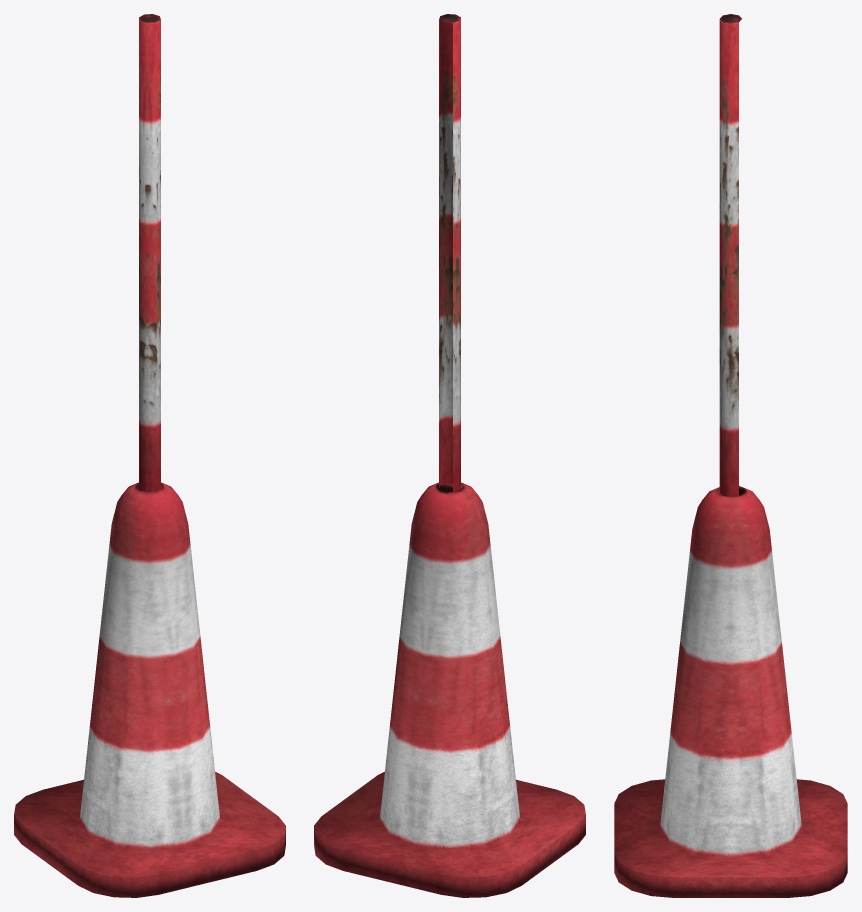
Rendered from traffic_cone_pole.glb.
The picture shows the model from 3 angles, left to right: view 1: azimuth 30°, elevation 25°; view 2: azimuth 150°, elevation 25°; view 3: azimuth 270°, elevation 25°; orthographic projection.
Parts seen in each view (by area): view 1: Pacholek_Drogowy_PRL_Tyczka_0, Pacholek_Drogowy_PRL_Tyczka_1; view 2: Pacholek_Drogowy_PRL_Tyczka_0, Pacholek_Drogowy_PRL_Tyczka_1; view 3: Pacholek_Drogowy_PRL_Tyczka_0, Pacholek_Drogowy_PRL_Tyczka_1.
Boxes of the visible parts, x1,y1,x2,y2 form: Pacholek_Drogowy_PRL_Tyczka_0: (14, 482, 285, 897); Pacholek_Drogowy_PRL_Tyczka_1: (139, 14, 160, 491); Pacholek_Drogowy_PRL_Tyczka_0: (314, 482, 585, 897); Pacholek_Drogowy_PRL_Tyczka_1: (439, 14, 460, 491); Pacholek_Drogowy_PRL_Tyczka_0: (614, 486, 847, 897); Pacholek_Drogowy_PRL_Tyczka_1: (719, 14, 741, 496).
Bounding box in the file's own units: 0.4081 × 1.6 × 0.4081.
2 materials, 2 textured.
